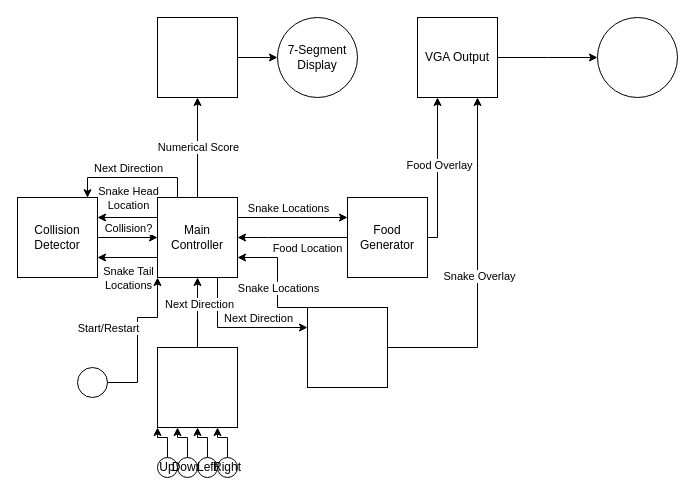
Some shapes in this 695 by 495 pixel diagram are drawn without their labels. The centre of each missing label's shape, as x and y in pixels:
Input: the point at 197,387
Score Display: the point at 197,57
Snake Generator: the point at 347,347
TV: the point at 637,57
